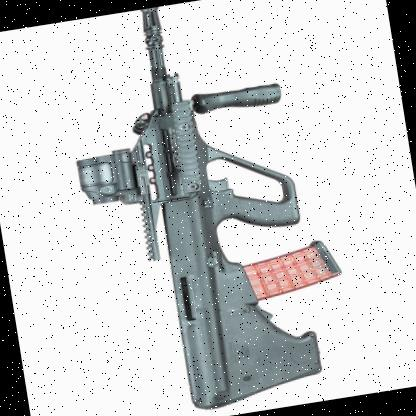rifle: (49, 0, 366, 416)
